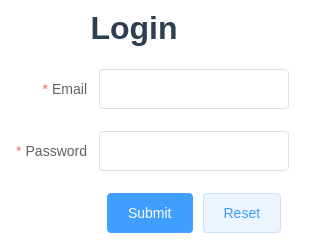
Test login page › Tests validation
Step 1. Type "He" into the field with test id "email" → (194, 89), box [99,69,289,109]
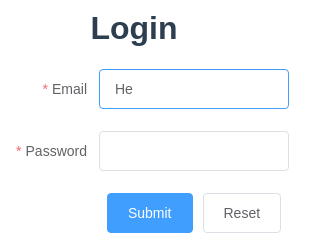
Step 2. Leave the field with test id "email", box [99,69,289,109]
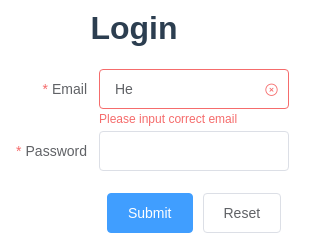
Expected: the text "Please input correct email" is shown, [99,109,237,125]
